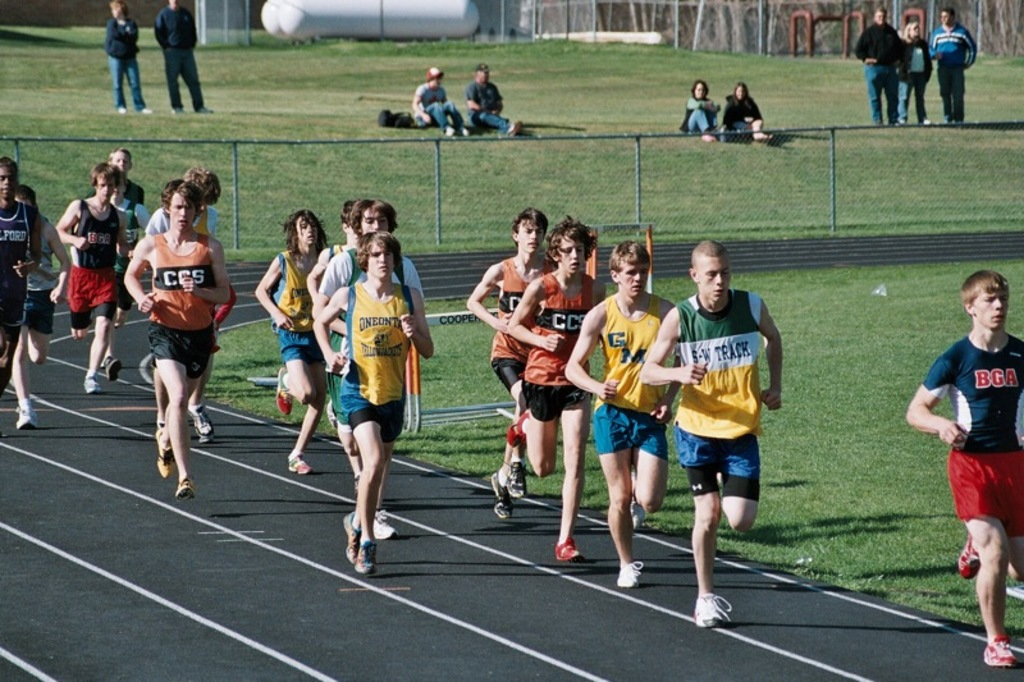Person: (151, 0, 204, 112), (102, 0, 153, 115), (410, 64, 471, 136), (895, 20, 933, 125)
